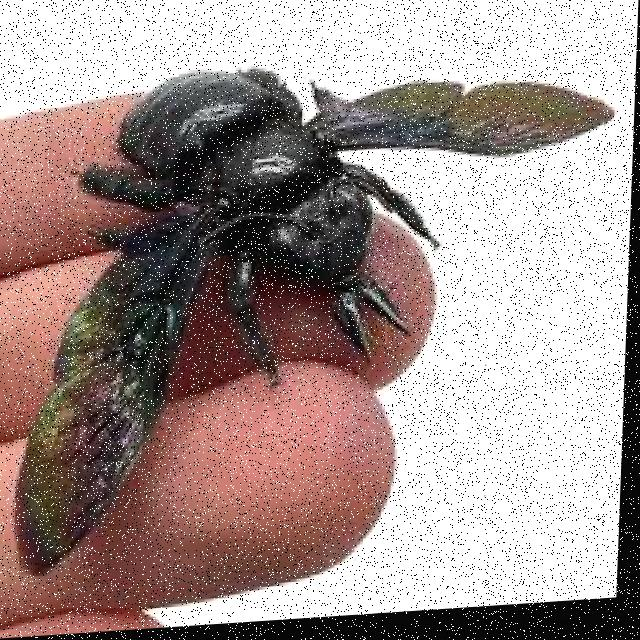Xylocopa: (13, 18, 608, 574)
